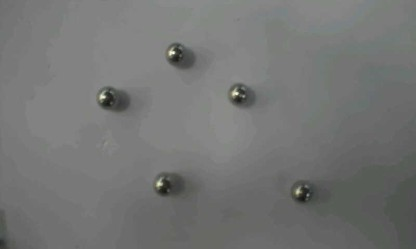ironball: (152, 171, 178, 196), (95, 85, 119, 109), (290, 179, 313, 202), (227, 82, 250, 105), (164, 41, 186, 65)
